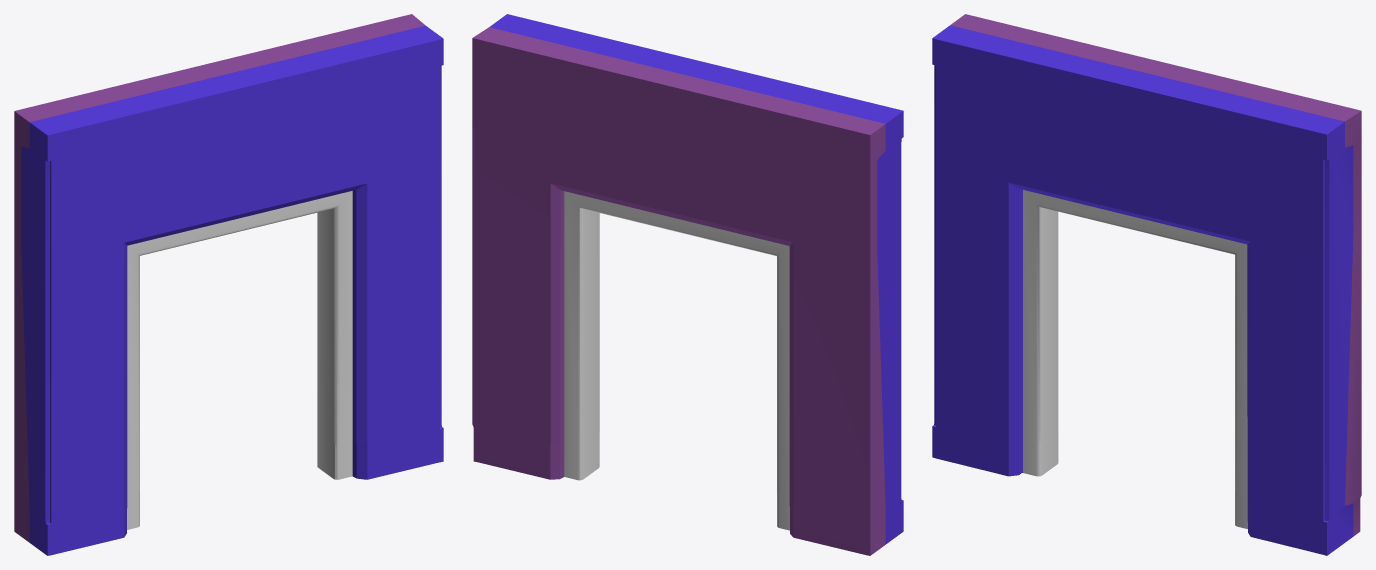
File: SpawnBalconyDoorway.fbx
The picture shows the model from 3 angles, left to right: view 1: azimuth 30°, elevation 25°; view 2: azimuth 150°, elevation 25°; view 3: azimuth 330°, elevation 25°; orthographic projection.
Parts seen in each view (by area): view 1: Doorway; view 2: Doorway; view 3: Doorway.
Boxes of the visible parts, x1,y1,x2,y2 form: Doorway: (14,14,443,555); Doorway: (472,14,903,555); Doorway: (932,14,1361,555).
Size of the model in its own units: 2120 by 2153 by 308.
